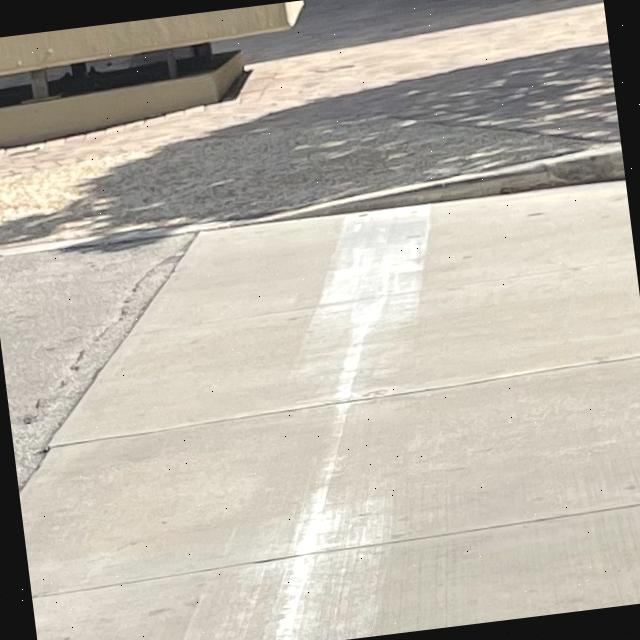curb: (266, 147, 624, 221), (0, 215, 267, 257)
